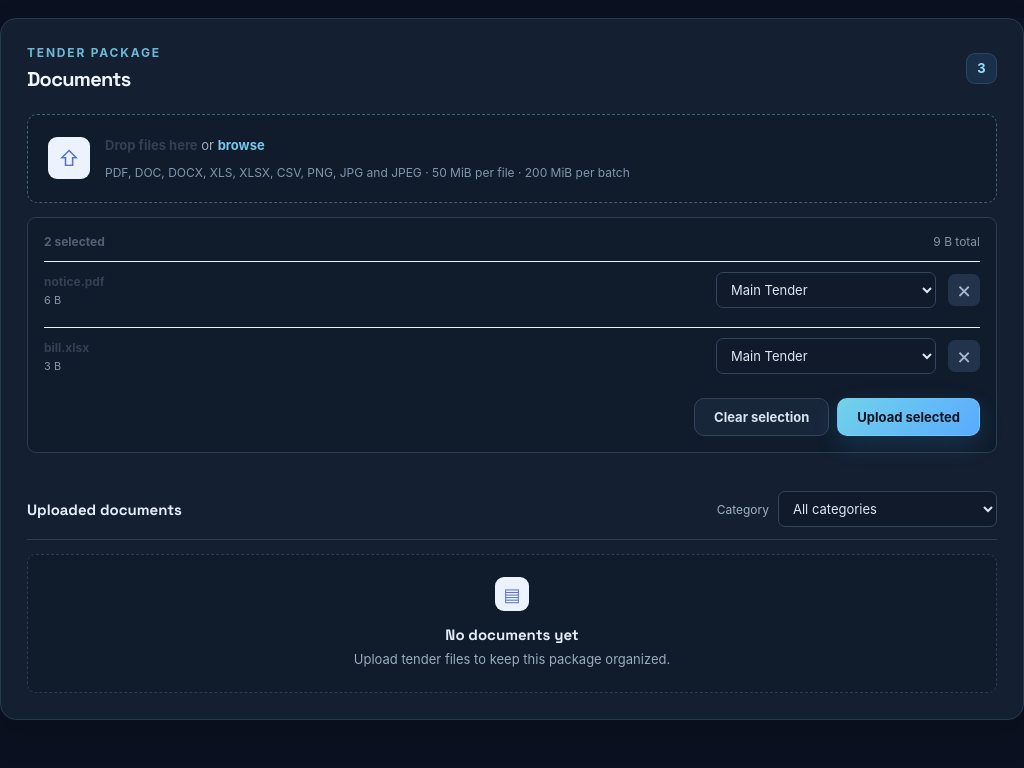
Test case: tender document management › uploads selected files as one request with matching per-file categories and refreshes the count
This screenshot has width=1024, height=768.
Earlier steps of the test are not shown.
Select "Boq" in the dropdown named "Category for bill.xlsx" at (826, 356), box [716, 338, 936, 374]
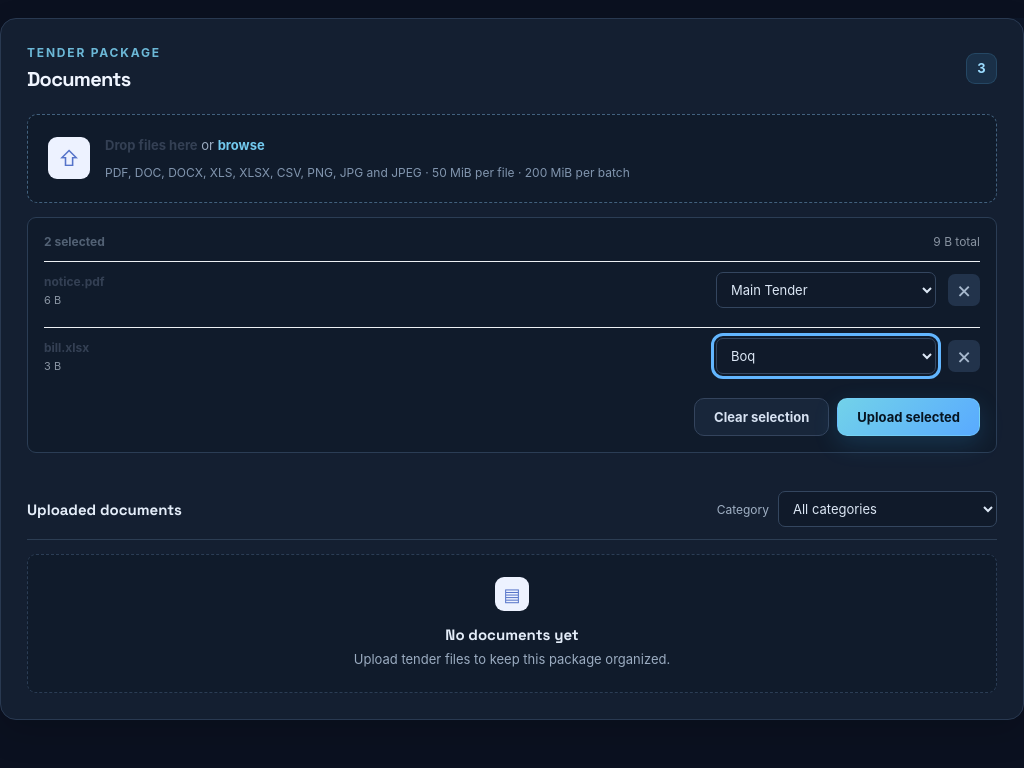
Click the button "Upload selected".
click(909, 417)  # box [837, 398, 980, 436]
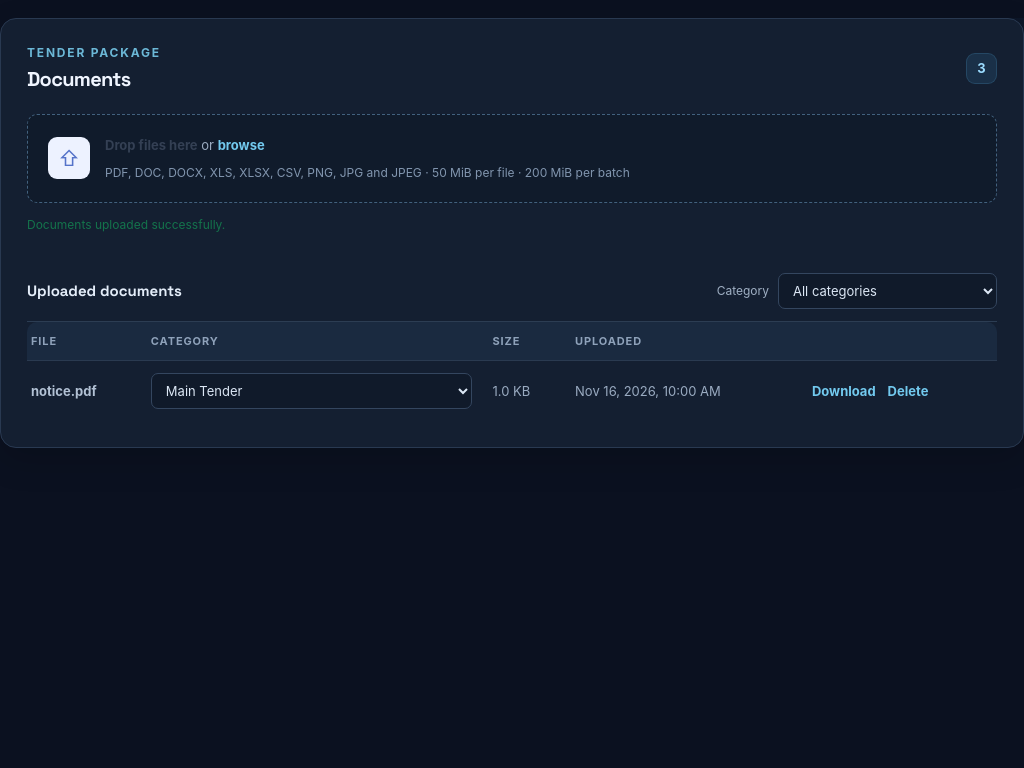
expect the text "notice.pdf" is shown: met, box [31, 383, 97, 399]
expect the text "Documents uploaded successfully." is shown: met, box [27, 217, 225, 232]
